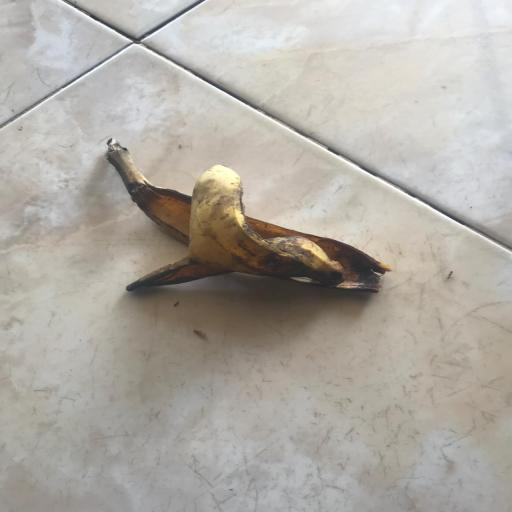waste: (88, 132, 394, 309)
